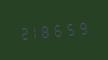eight: (42, 21, 53, 40)
five: (66, 18, 77, 37)
nine: (78, 17, 89, 36)
one: (29, 22, 40, 41)
six: (54, 20, 65, 38)
two: (17, 23, 28, 42)
